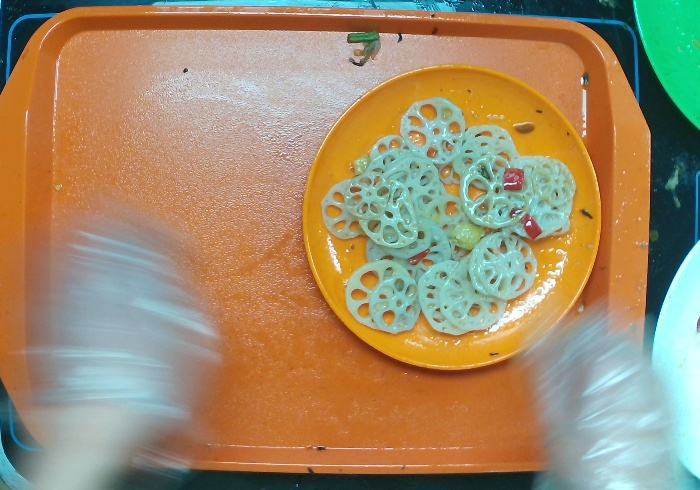HZYJPL-Ju_Huang_Yuan_Pan: (296, 59, 609, 379)
